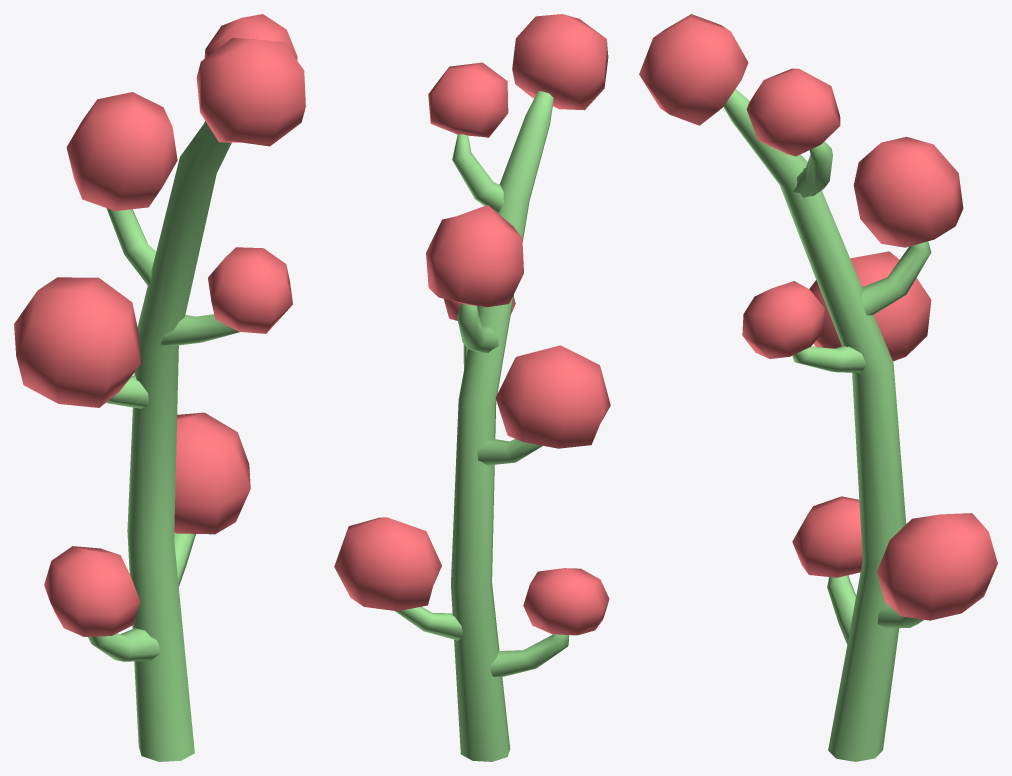
Rendered from RedCottonPlant.fbx.
The picture shows the model from 3 angles, left to right: view 1: azimuth 30°, elevation 25°; view 2: azimuth 150°, elevation 25°; view 3: azimuth 270°, elevation 25°; orthographic projection. The views are drawn at different scales.
Parts seen in each view (by area): view 1: RedCottonPlant_Item_LOD0, RedCottonPlant_Base_LOD0; view 2: RedCottonPlant_Item_LOD0, RedCottonPlant_Base_LOD0; view 3: RedCottonPlant_Item_LOD0, RedCottonPlant_Base_LOD0.
Part boxes in pixels (<box>): RedCottonPlant_Item_LOD0: <box>14,14,305,636</box>; RedCottonPlant_Base_LOD0: <box>88,121,239,761</box>; RedCottonPlant_Item_LOD0: <box>334,14,610,635</box>; RedCottonPlant_Base_LOD0: <box>395,91,569,761</box>; RedCottonPlant_Item_LOD0: <box>639,14,997,620</box>; RedCottonPlant_Base_LOD0: <box>723,89,931,761</box>.
Size of what is drawn, in the model's own units: 0.2346 by 0.6528 by 0.2902.
